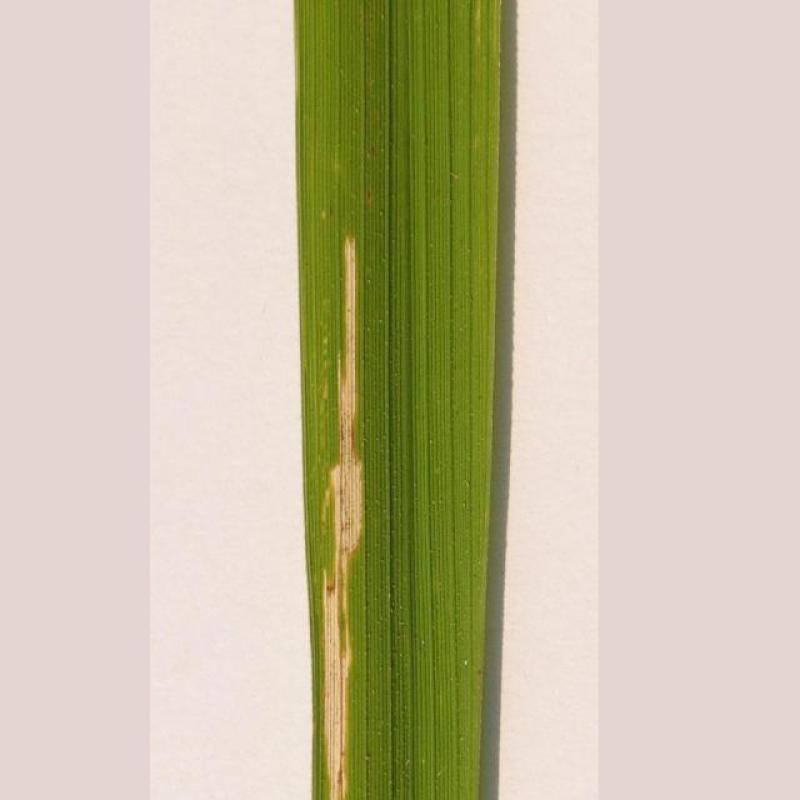Bacterial_Leaf_Blight: (278, 194, 416, 800)
